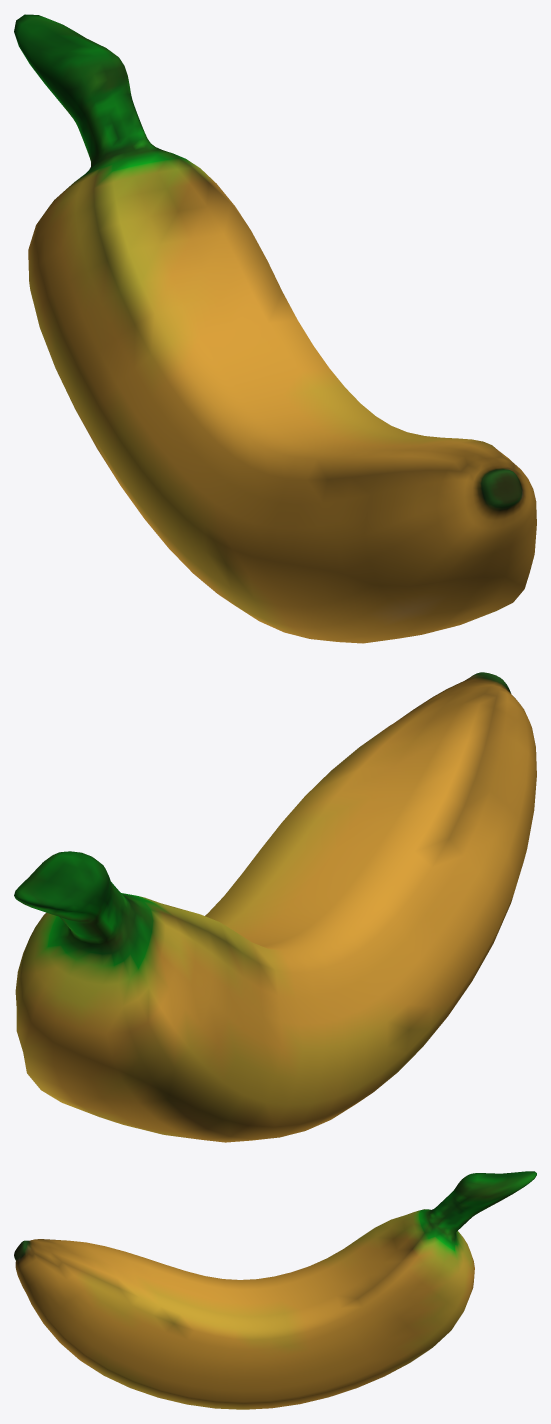
File: Banana.fbx
The picture shows the model from 3 angles, top to bottom: view 1: azimuth 30°, elevation 25°; view 2: azimuth 150°, elevation 25°; view 3: azimuth 270°, elevation 25°; orthographic projection. The views are drawn at different scales.
Visible parts, largest first — view 1: Cube; view 2: Cube; view 3: Cube.
Boxes of the visible parts, <box> form: Cube: <box>14,14,536,643</box>; Cube: <box>14,672,536,1142</box>; Cube: <box>14,1171,536,1409</box>.
Bounding box in the file's own units: 1.96 × 3.86 × 8.41.
